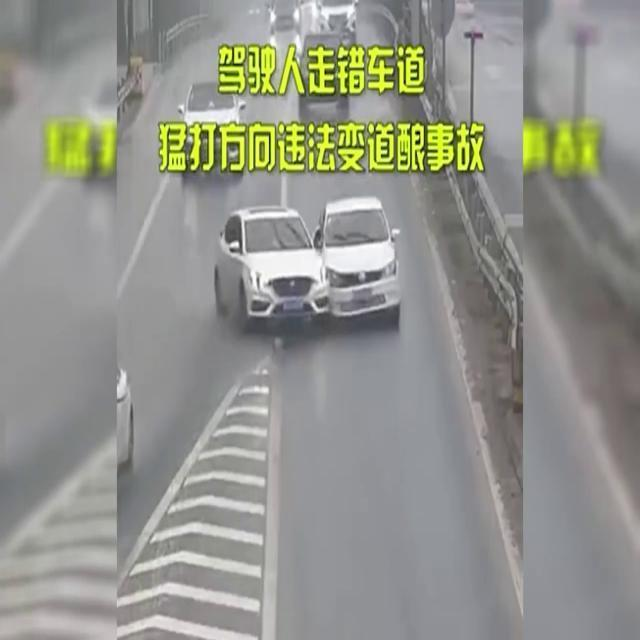accident: (216, 195, 404, 333)
